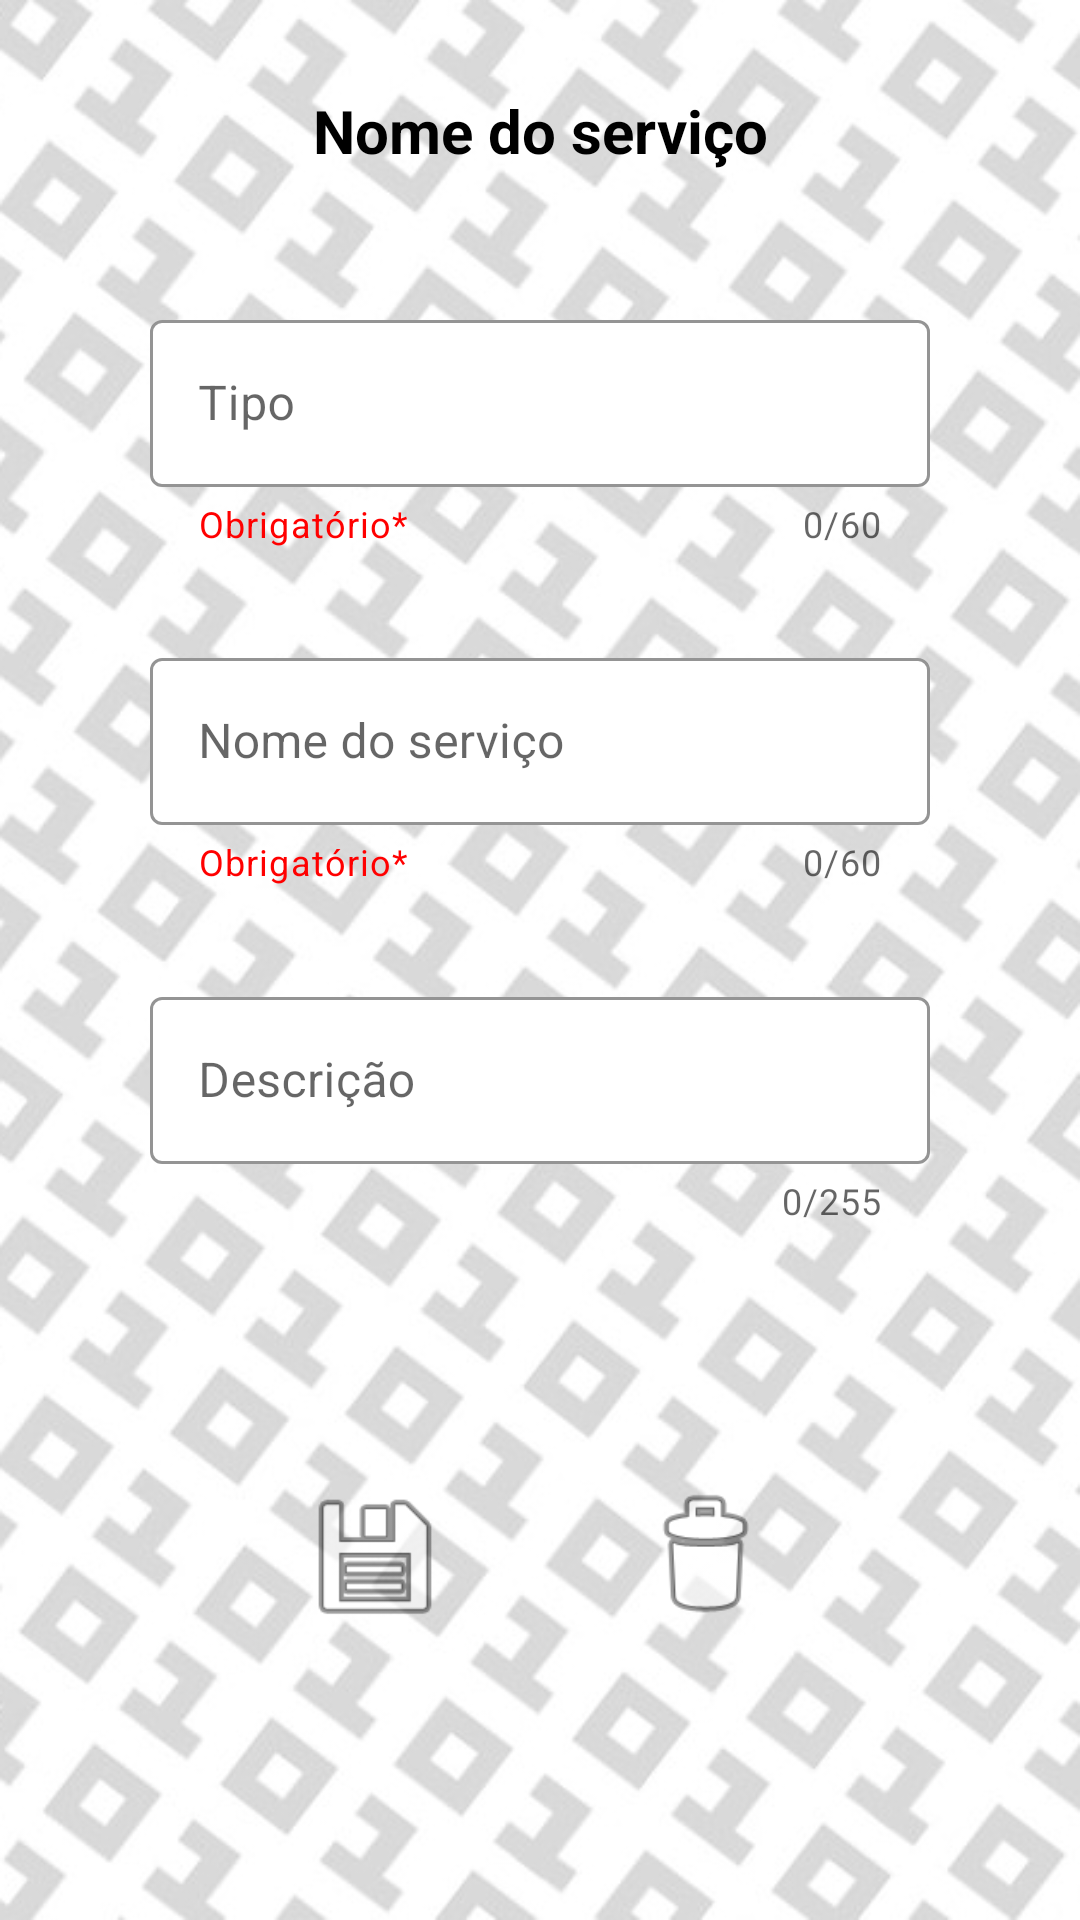

Named icons in this screenshot (1080px×1920px) and their centers, [x,y]:
delete: [705,1556]
save: [375,1556]
